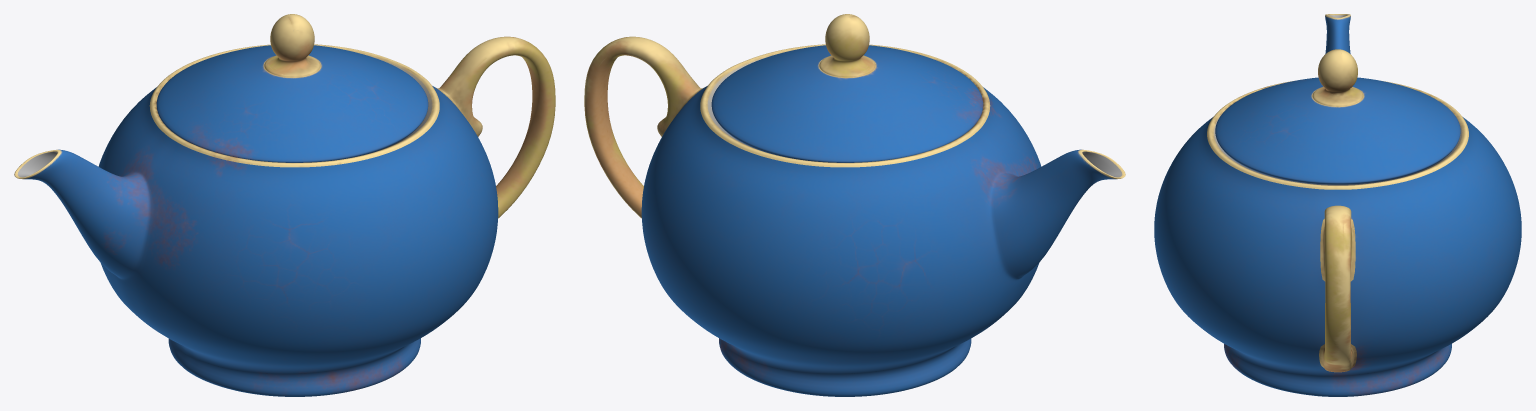
The model's file is teapot.obj.
The picture shows the model from 3 angles, left to right: view 1: azimuth 30°, elevation 25°; view 2: azimuth 150°, elevation 25°; view 3: azimuth 270°, elevation 25°; orthographic projection. The views are drawn at different scales.
Visible parts, largest first — view 1: obj1, obj3, obj2; view 2: obj1, obj3, obj2; view 3: obj1, obj3, obj2.
Boxes of the visible parts, x1,y1,x2,y2 form: obj1: (24,45,498,396); obj3: (14,14,555,218); obj2: (17,56,432,177); obj1: (641,45,1115,396); obj3: (584,14,1125,218); obj2: (707,56,1122,177); obj1: (1154,16,1521,396); obj3: (1207,14,1468,372); obj2: (1213,15,1462,185).
Bounding box in the file's own units: 4.41 × 2.59 × 2.9.
Materials: 1 (1 with a texture image).
